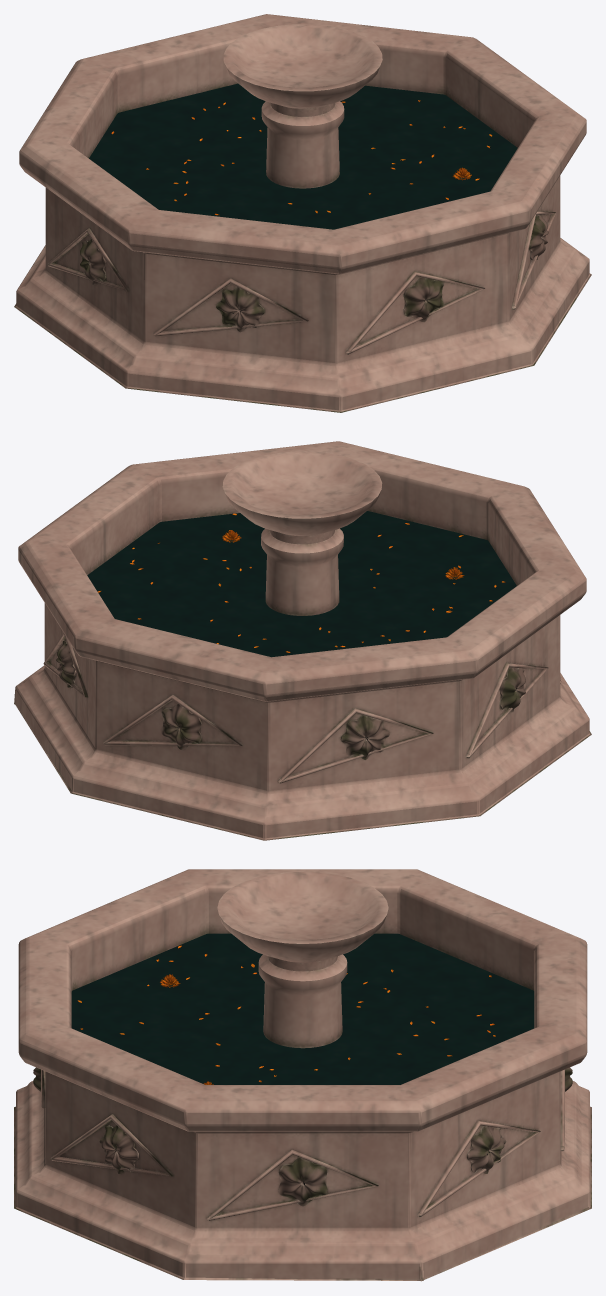
The model's file is w6_cantera_fountain_basin.glb.
3 views of the same model, one above another, from view 1: azimuth 30°, elevation 25°; view 2: azimuth 150°, elevation 25°; view 3: azimuth 270°, elevation 25° (orthographic). The views are drawn at different scales.
Parts seen in each view (by area): view 1: w6_cantera_fountain_basin; view 2: w6_cantera_fountain_basin; view 3: w6_cantera_fountain_basin.
Part boxes in pixels (x1,y1,x2,y2): w6_cantera_fountain_basin: [14, 14, 591, 412]; w6_cantera_fountain_basin: [14, 441, 591, 840]; w6_cantera_fountain_basin: [14, 869, 591, 1281].
Bounding box in the file's own units: 1.82 × 0.876 × 1.82.
1 material, 1 textured.
